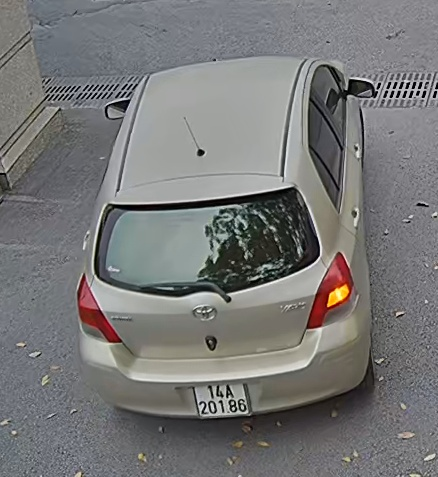vehicle plate: (189, 377, 254, 420)
